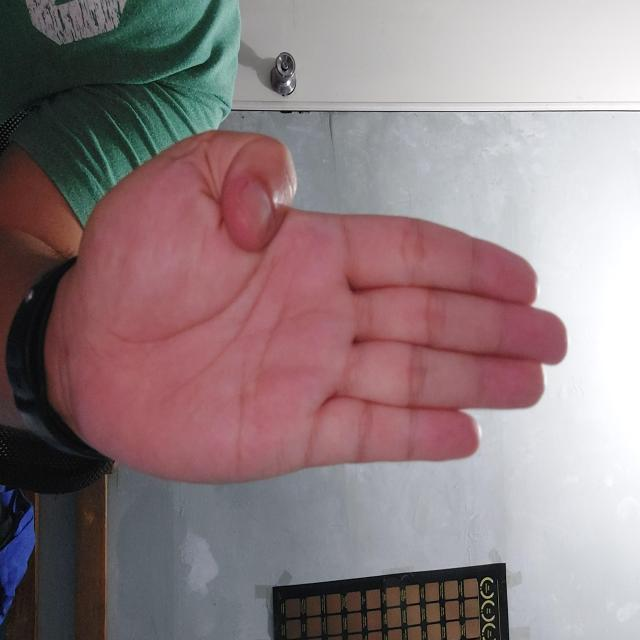B: (131, 73, 485, 585)
